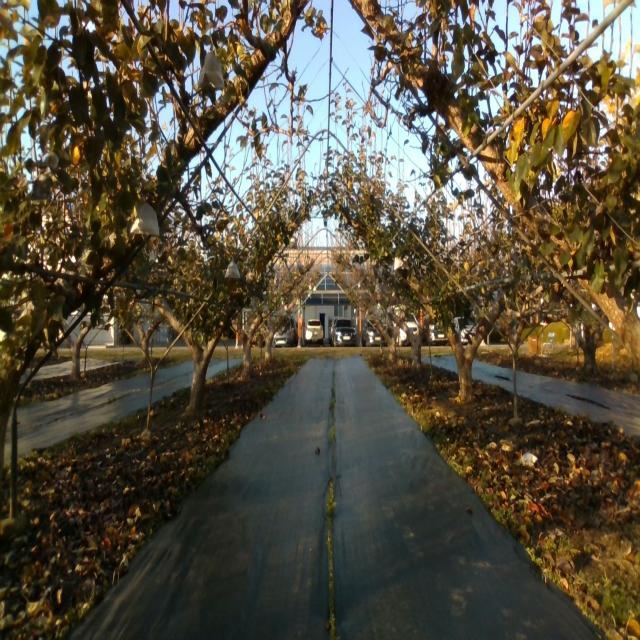pearbags: (198, 52, 226, 90), (130, 202, 160, 236), (225, 260, 240, 279)
